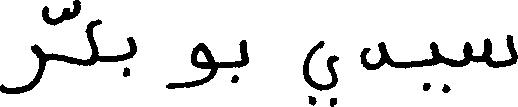X: (0, 5, 42, 98), (168, 38, 214, 93), (305, 36, 337, 106), (466, 30, 517, 72), (362, 37, 384, 74), (87, 14, 99, 70), (129, 32, 135, 80), (431, 37, 439, 70), (242, 35, 247, 71)
